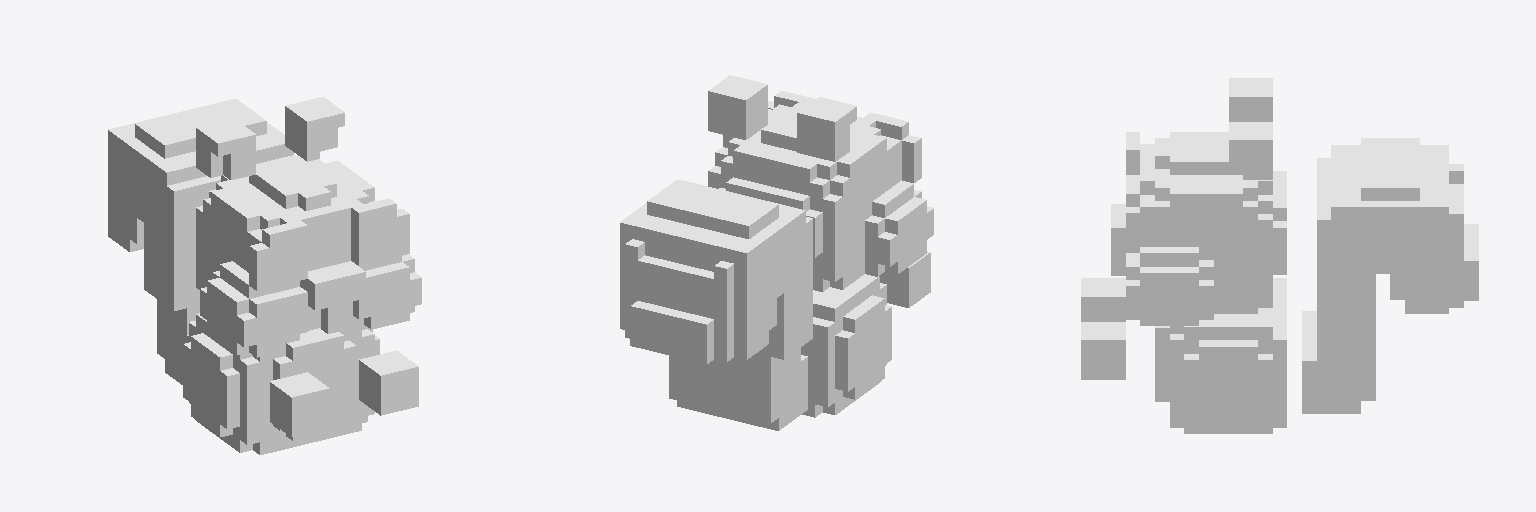
Rendered from CEO2-0.obj.
3 renders of one model, left to right at view 1: azimuth 30°, elevation 25°; view 2: azimuth 150°, elevation 25°; view 3: azimuth 270°, elevation 25°, orthographic.
Parts seen in each view (by area): view 1: object 1; view 2: object 1; view 3: object 1.
Boxes of the visible parts, <box> form: object 1: <box>108,97,421,454</box>; object 1: <box>620,75,933,430</box>; object 1: <box>1081,78,1478,433</box>.
Size of the model in its own units: 1.4 by 2.2 by 2.7.